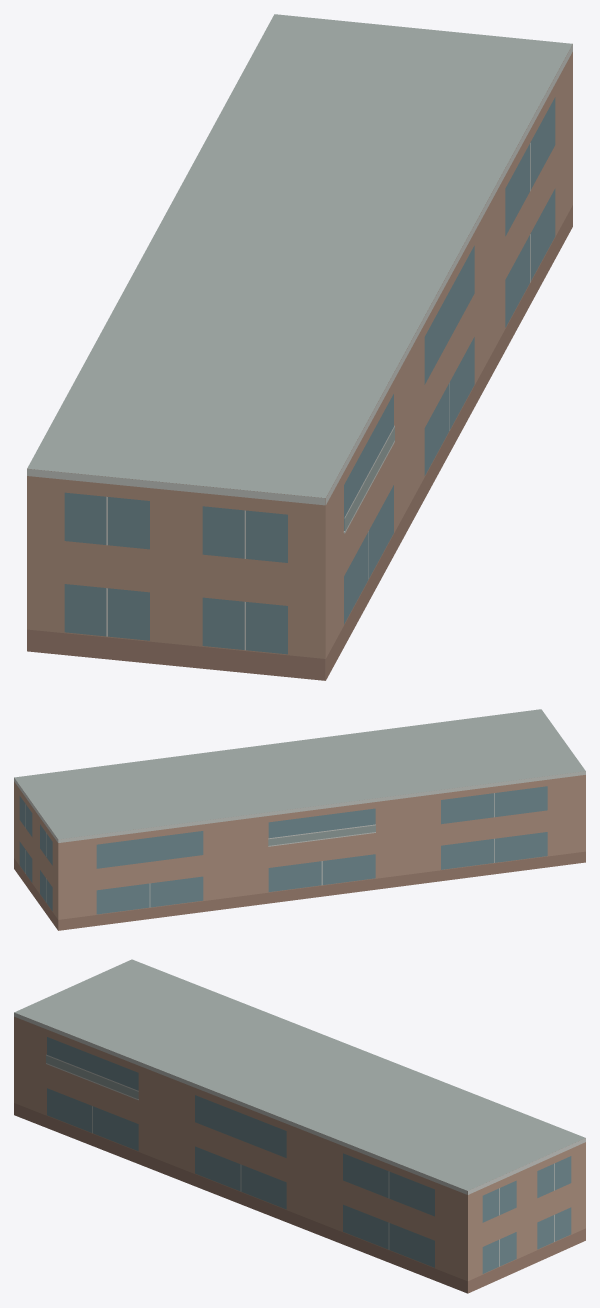
The model's file is survey-upis-33032316.glb.
3 views of the same model, one above another, from view 1: azimuth 30°, elevation 25°; view 2: azimuth 150°, elevation 25°; view 3: azimuth 270°, elevation 25° (orthographic). The views are drawn at different scales.
Visible parts, largest first — view 1: survey-upis-33032316.tmp; view 2: survey-upis-33032316.tmp; view 3: survey-upis-33032316.tmp.
Boxes of the visible parts, bbox=[...] form: survey-upis-33032316.tmp: bbox=[27, 14, 572, 680]; survey-upis-33032316.tmp: bbox=[14, 709, 585, 930]; survey-upis-33032316.tmp: bbox=[14, 959, 585, 1293].
Bounding box in the file's own units: 29.53 × 6.1 × 30.81.
